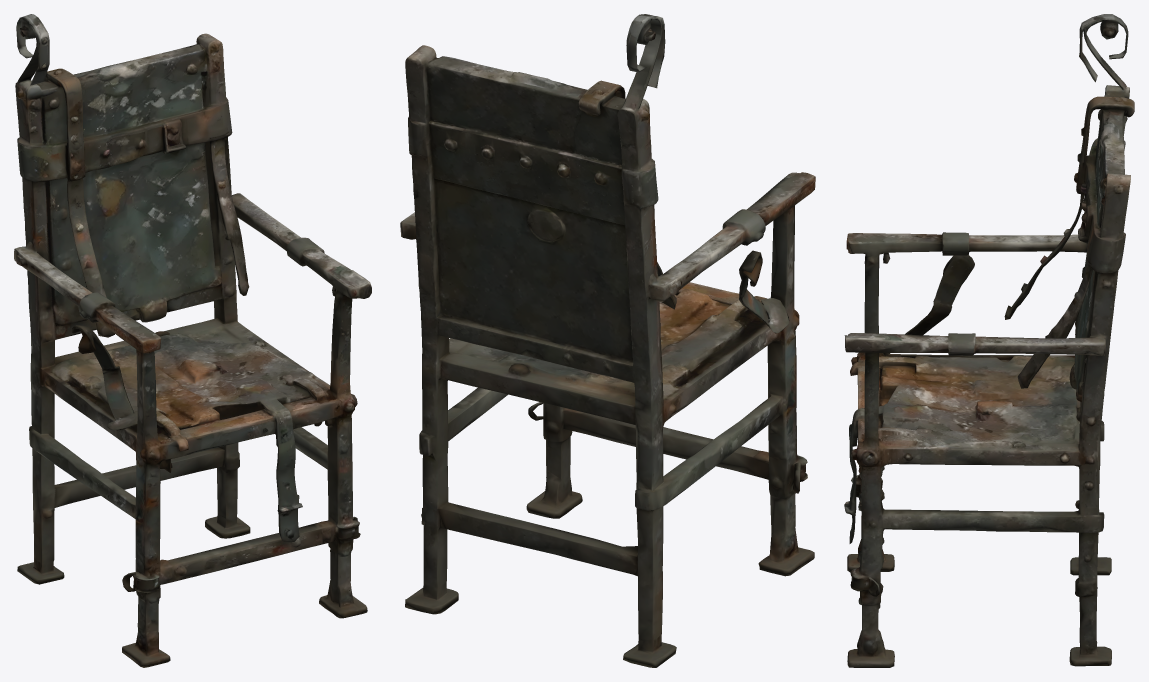
3 renders of one model, left to right at view 1: azimuth 30°, elevation 25°; view 2: azimuth 150°, elevation 25°; view 3: azimuth 270°, elevation 25°, orthographic. The views are drawn at different scales.
Visible parts, largest first — view 1: tripo_node_10bde063-3f0d-411d-b52c-6c0664fdeb2a; view 2: tripo_node_10bde063-3f0d-411d-b52c-6c0664fdeb2a; view 3: tripo_node_10bde063-3f0d-411d-b52c-6c0664fdeb2a.
Boxes of the visible parts, left/top/right/bottom form: tripo_node_10bde063-3f0d-411d-b52c-6c0664fdeb2a: left=14, top=14, right=371, bottom=667; tripo_node_10bde063-3f0d-411d-b52c-6c0664fdeb2a: left=400, top=14, right=815, bottom=667; tripo_node_10bde063-3f0d-411d-b52c-6c0664fdeb2a: left=844, top=14, right=1134, bottom=667.
Size of the model in its own units: 0.4581 by 0.9995 by 0.4776.
Materials: 1 (1 with a texture image).
